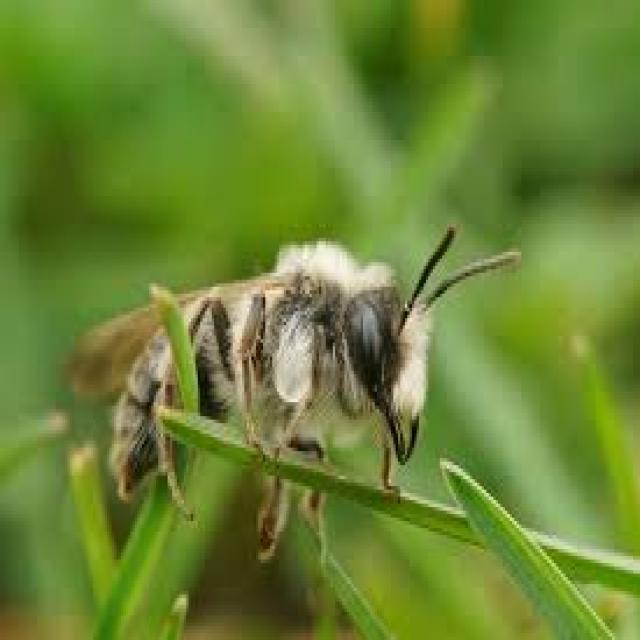Bees: (71, 223, 523, 555)
